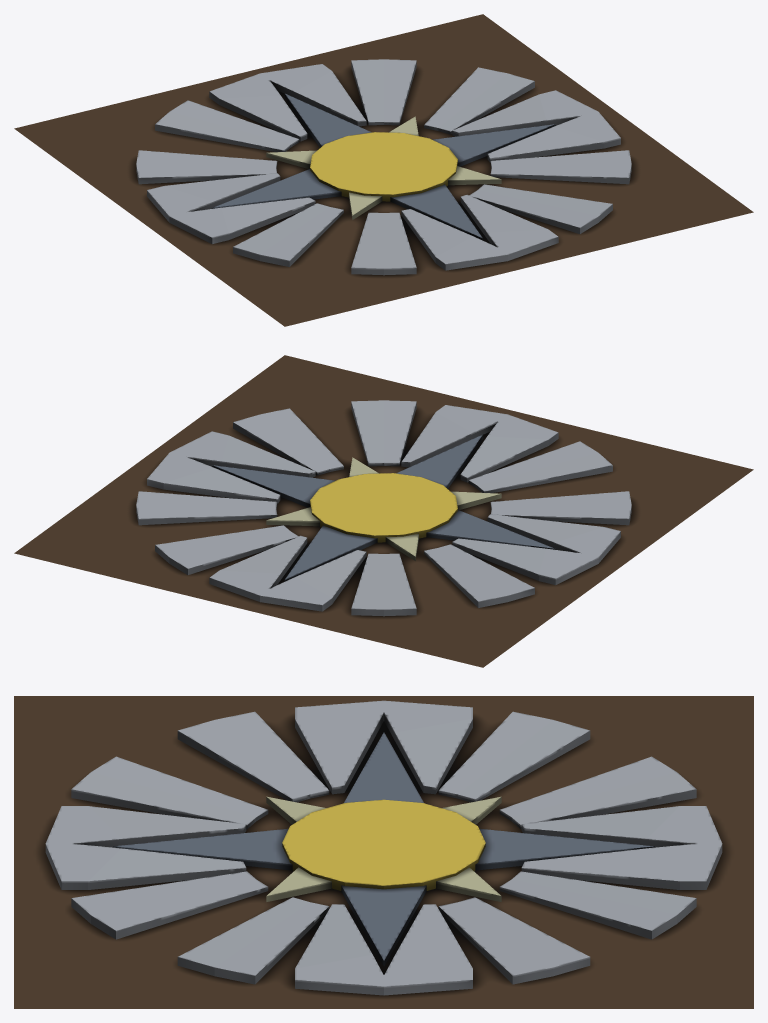
The model's file is Path Circle.fbx.
The picture shows the model from 3 angles, top to bottom: view 1: azimuth 30°, elevation 25°; view 2: azimuth 150°, elevation 25°; view 3: azimuth 270°, elevation 25°; orthographic projection. The views are drawn at different scales.
Parts seen in each view (by area): view 1: Path Circle; view 2: Path Circle; view 3: Path Circle.
Part boxes in pixels (bbox=[...]): Path Circle: bbox=[14, 14, 753, 326]; Path Circle: bbox=[14, 355, 753, 667]; Path Circle: bbox=[14, 696, 753, 1008].
Size of the model in its own units: 200 by 5.84 by 200.
Materials: 1 (1 with a texture image).
